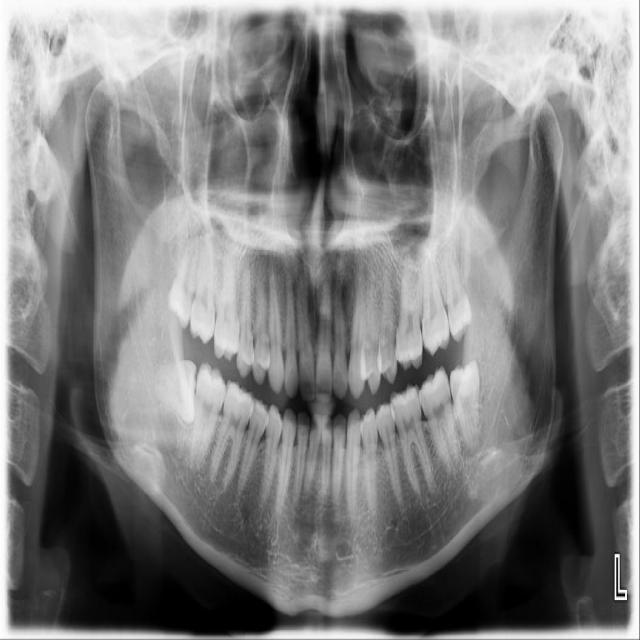impacted tooth: (144, 358, 202, 420), (446, 360, 483, 453)
